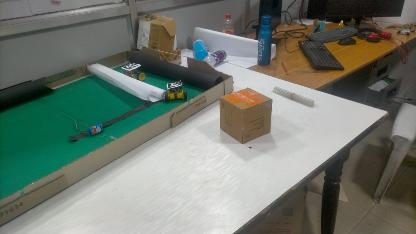Plastic Bottle: (257, 13, 273, 66), (202, 49, 227, 68), (223, 14, 236, 34)
